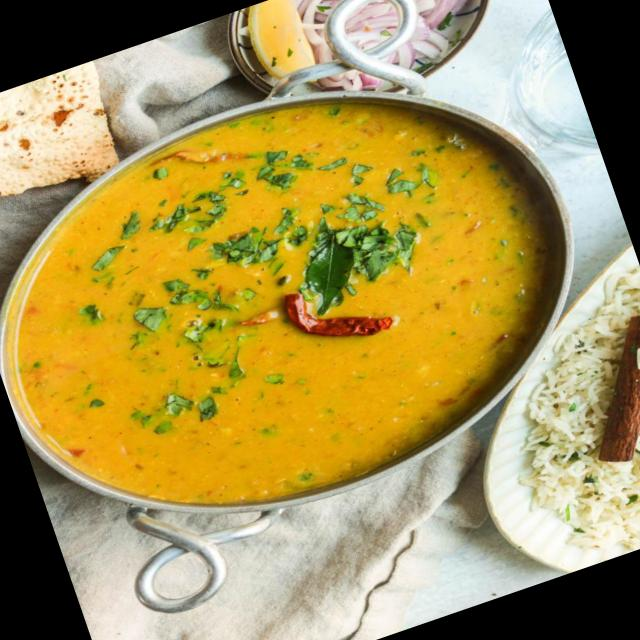dal: (0, 19, 601, 583)
rice: (471, 255, 640, 575)
